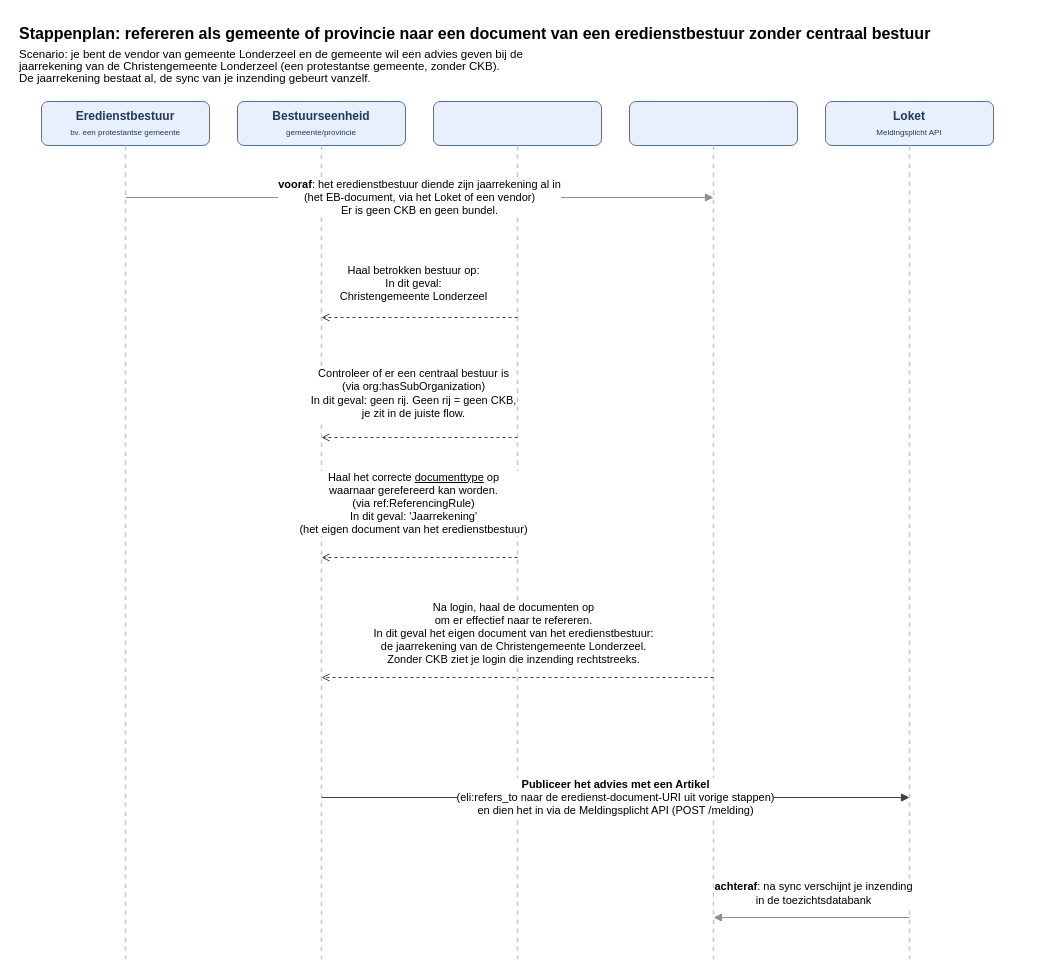
The diagram is 1046 pixels wide and 978 high, and some of its shapes have lost their labels. Here are the shapes that lost their labels. From the top down, the centre of each, then its label:
At pixel 517 123: "Centrale Vindplaats publieke gegevens, geen login".
At pixel 713 123: "Databank Erediensten toezichtsdatabank".
